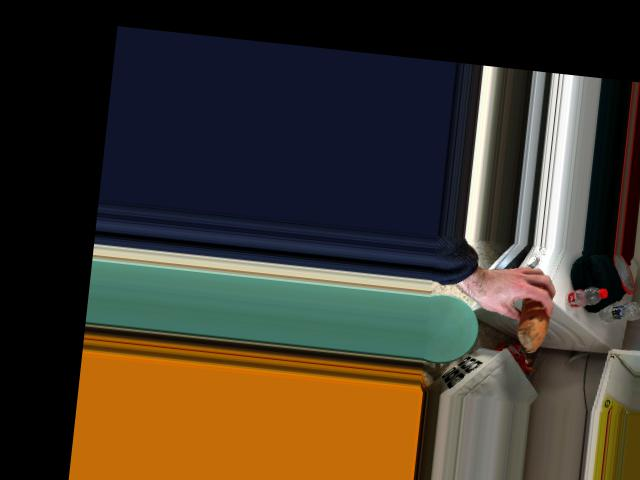sweet_potato: (517, 294, 551, 342)
